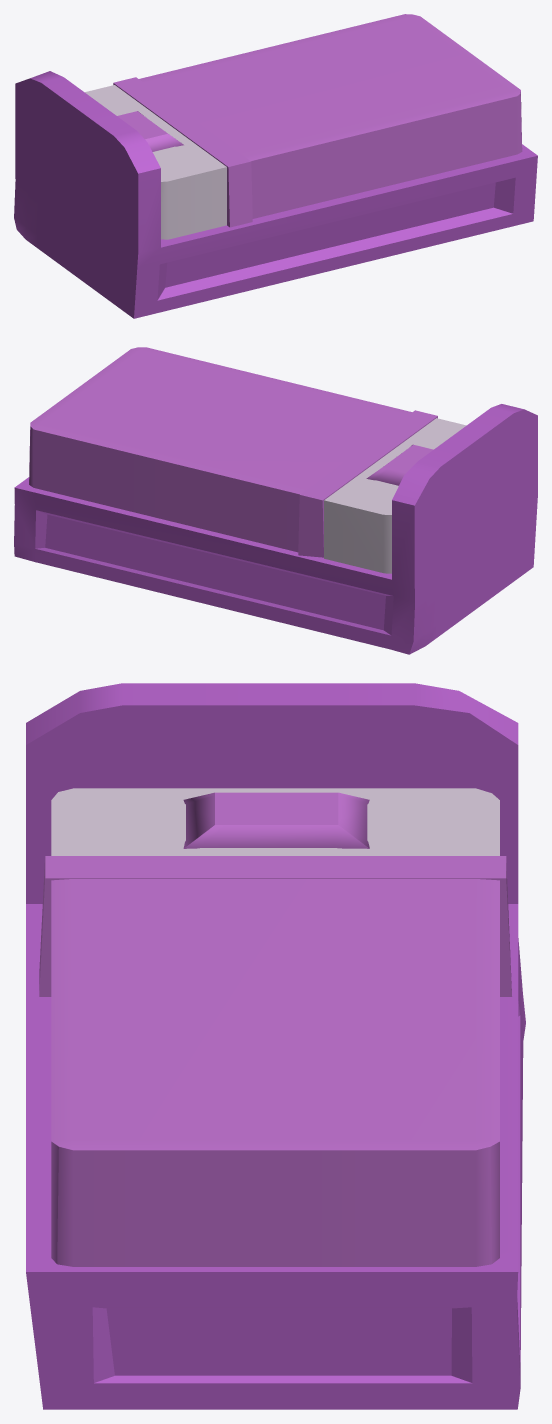
The model's file is ChildBedMostRecent.fbx.
3 views of the same model, one above another, from view 1: azimuth 30°, elevation 25°; view 2: azimuth 150°, elevation 25°; view 3: azimuth 270°, elevation 25° (orthographic). The views are drawn at different scales.
Parts seen in each view (by area): view 1: ChildBedForScaling:ChildBedMattress, ChildBedForScaling:ChildBedBase, ChildBedForScaling:ChildBedPillow; view 2: ChildBedForScaling:ChildBedMattress, ChildBedForScaling:ChildBedBase, ChildBedForScaling:ChildBedPillow; view 3: ChildBedForScaling:ChildBedMattress, ChildBedForScaling:ChildBedBase, ChildBedForScaling:ChildBedPillow.
Boxes of the visible parts, <box> form: ChildBedForScaling:ChildBedMattress: <box>85,14,522,239</box>; ChildBedForScaling:ChildBedBase: <box>14,71,537,318</box>; ChildBedForScaling:ChildBedPillow: <box>117,111,183,151</box>; ChildBedForScaling:ChildBedMattress: <box>29,347,466,573</box>; ChildBedForScaling:ChildBedBase: <box>14,404,537,654</box>; ChildBedForScaling:ChildBedPillow: <box>366,444,433,485</box>; ChildBedForScaling:ChildBedMattress: <box>39,788,511,1266</box>; ChildBedForScaling:ChildBedBase: <box>26,683,525,1409</box>; ChildBedForScaling:ChildBedPillow: <box>183,792,369,848</box>.
Bounding box in the file's own units: 2.06 × 0.8269 × 1.11.
